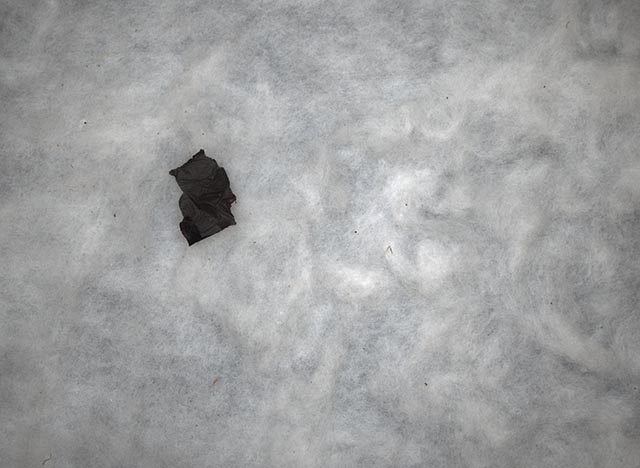plastic film: (168, 149, 237, 246)
